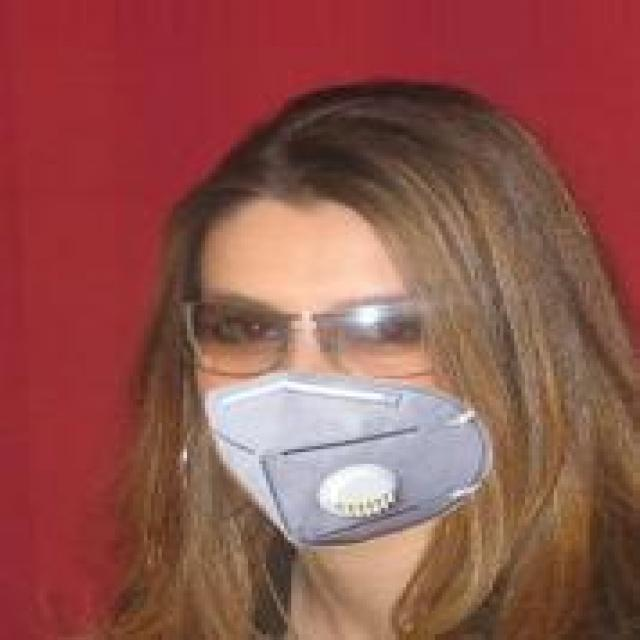mask: (118, 141, 582, 578)
